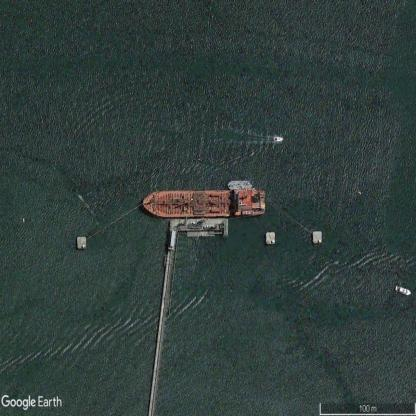ship: (143, 190, 265, 217), (227, 180, 252, 189), (395, 285, 411, 296), (273, 136, 283, 141)
